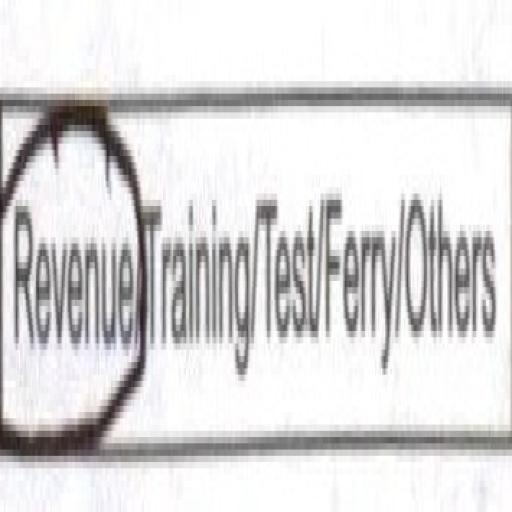check: (0, 50, 146, 492)
